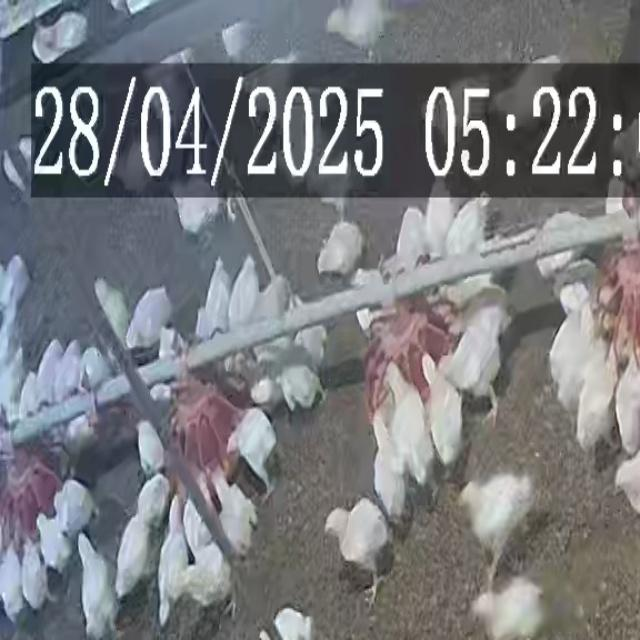chicken: (440, 292, 508, 402), (383, 361, 434, 493), (182, 498, 233, 622), (546, 298, 598, 419), (459, 477, 532, 558), (420, 352, 466, 478), (573, 334, 619, 457), (322, 499, 392, 579), (75, 531, 119, 638), (469, 576, 541, 640), (153, 495, 189, 621), (230, 406, 278, 499), (113, 504, 158, 601), (325, 1, 404, 55), (209, 474, 258, 558), (373, 411, 408, 521), (249, 270, 294, 352), (51, 477, 98, 551), (612, 344, 640, 460), (314, 218, 364, 282), (194, 257, 232, 341), (444, 195, 490, 262), (226, 254, 264, 332), (35, 507, 75, 578), (91, 275, 129, 346), (127, 288, 171, 348), (344, 268, 387, 327), (277, 362, 325, 414), (19, 538, 51, 613), (173, 197, 225, 242), (132, 473, 170, 533), (0, 545, 29, 621), (34, 338, 67, 404), (0, 253, 31, 323), (51, 338, 85, 400), (423, 194, 458, 254), (0, 344, 27, 420), (613, 441, 640, 516), (136, 418, 168, 480), (394, 208, 426, 270), (371, 408, 396, 485), (294, 314, 328, 369), (79, 343, 114, 391), (270, 606, 315, 640), (18, 368, 42, 424)
